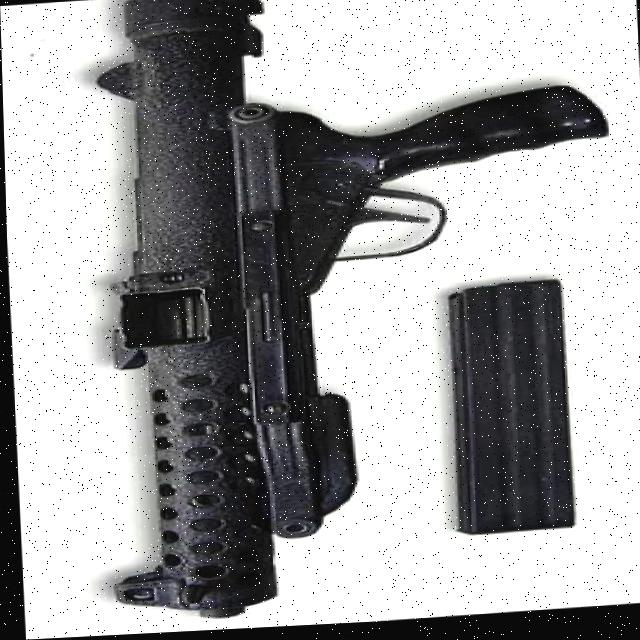firearm: (76, 0, 625, 629)
